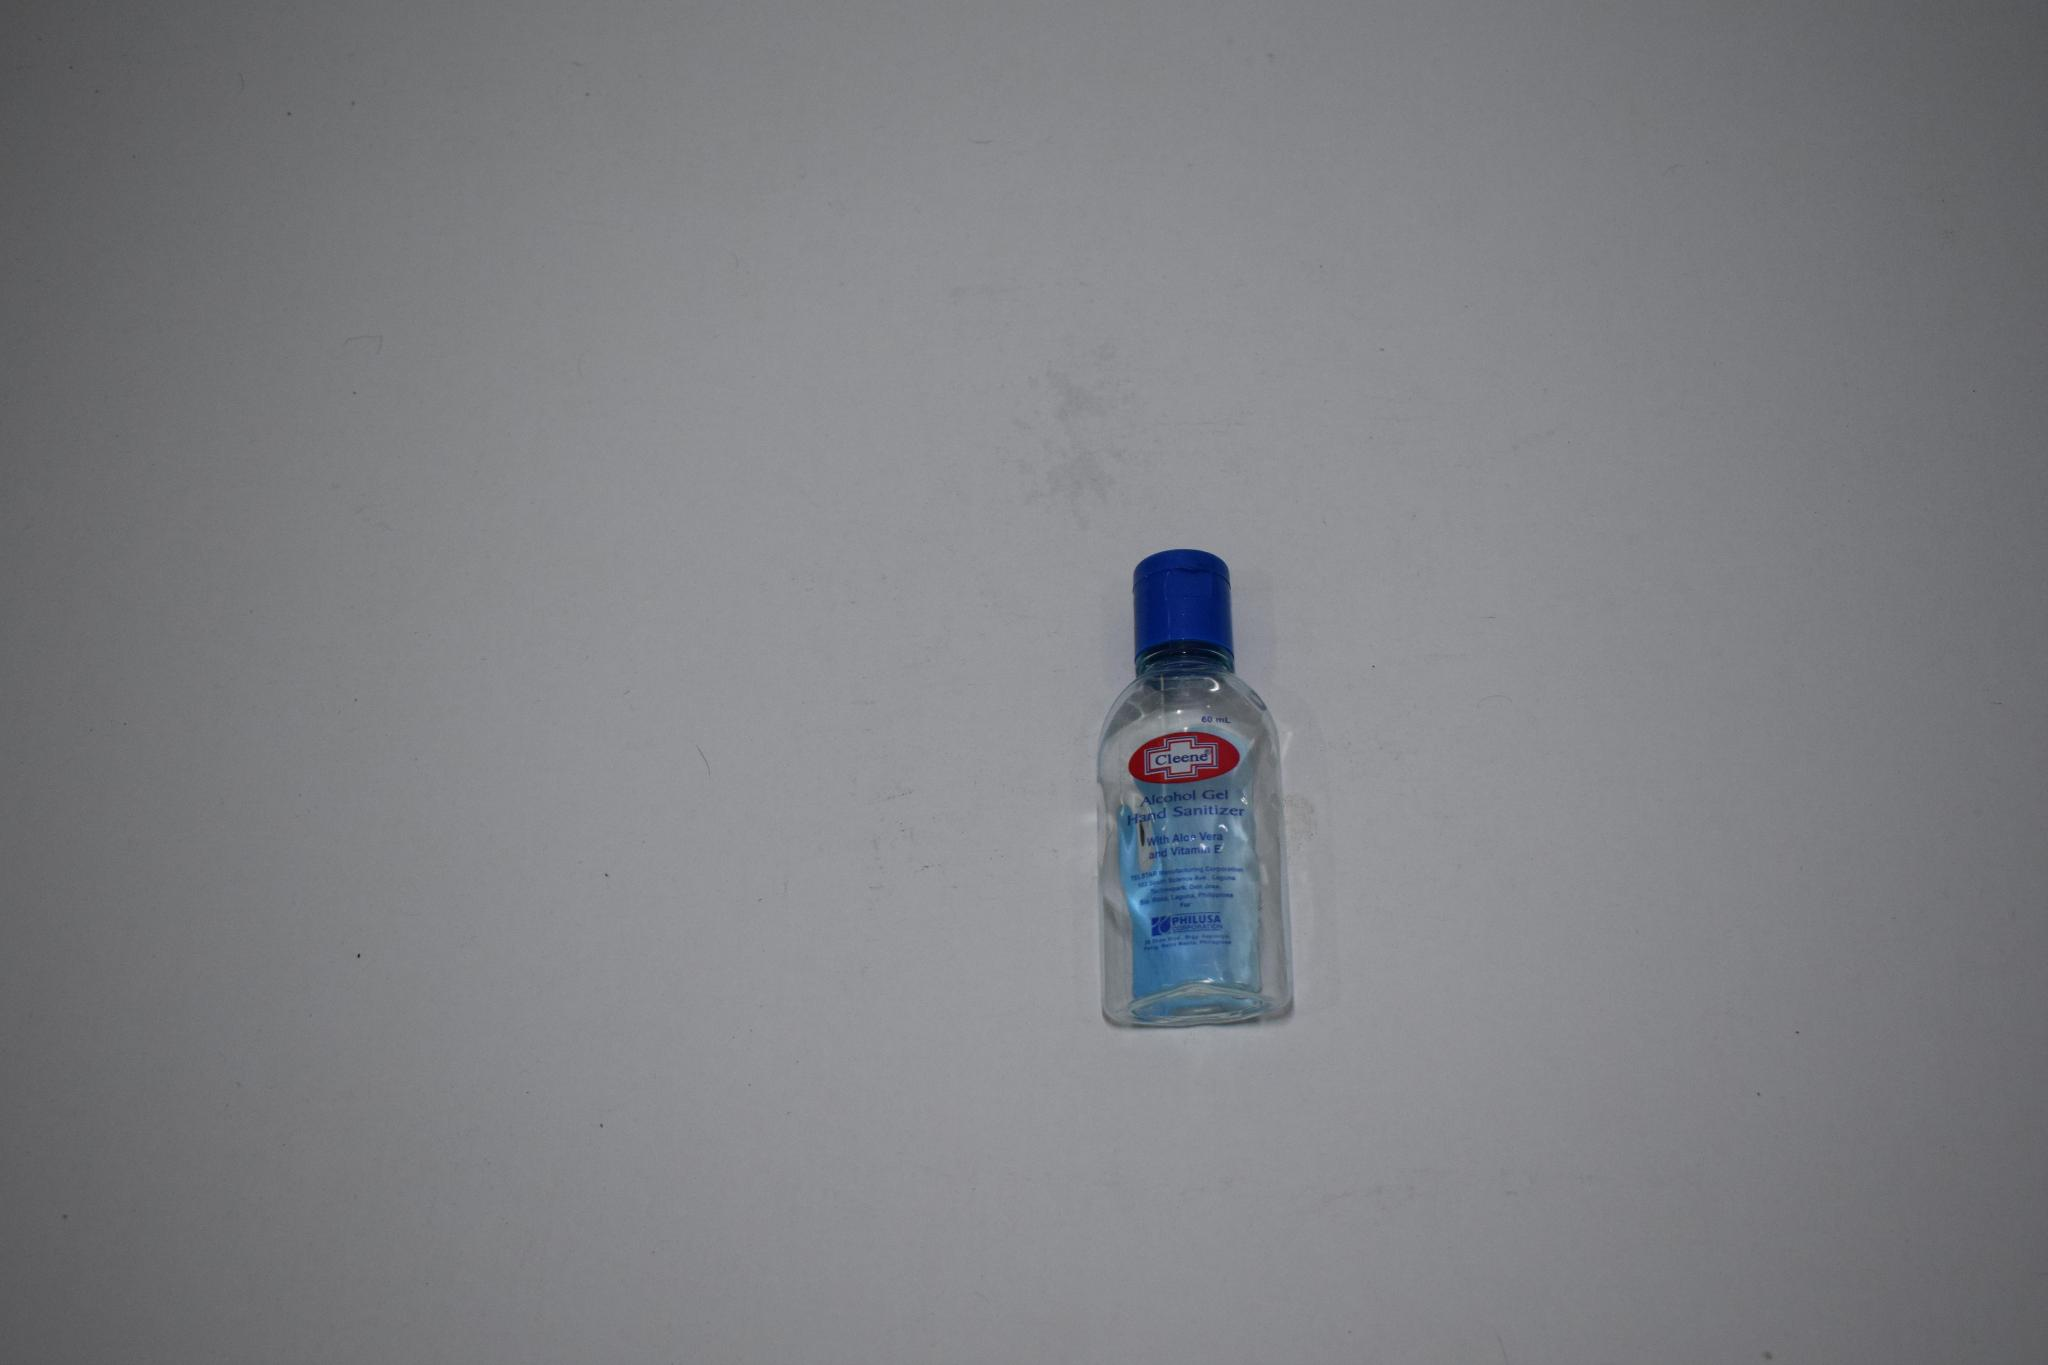bottle: (1080, 530, 1313, 1063)
